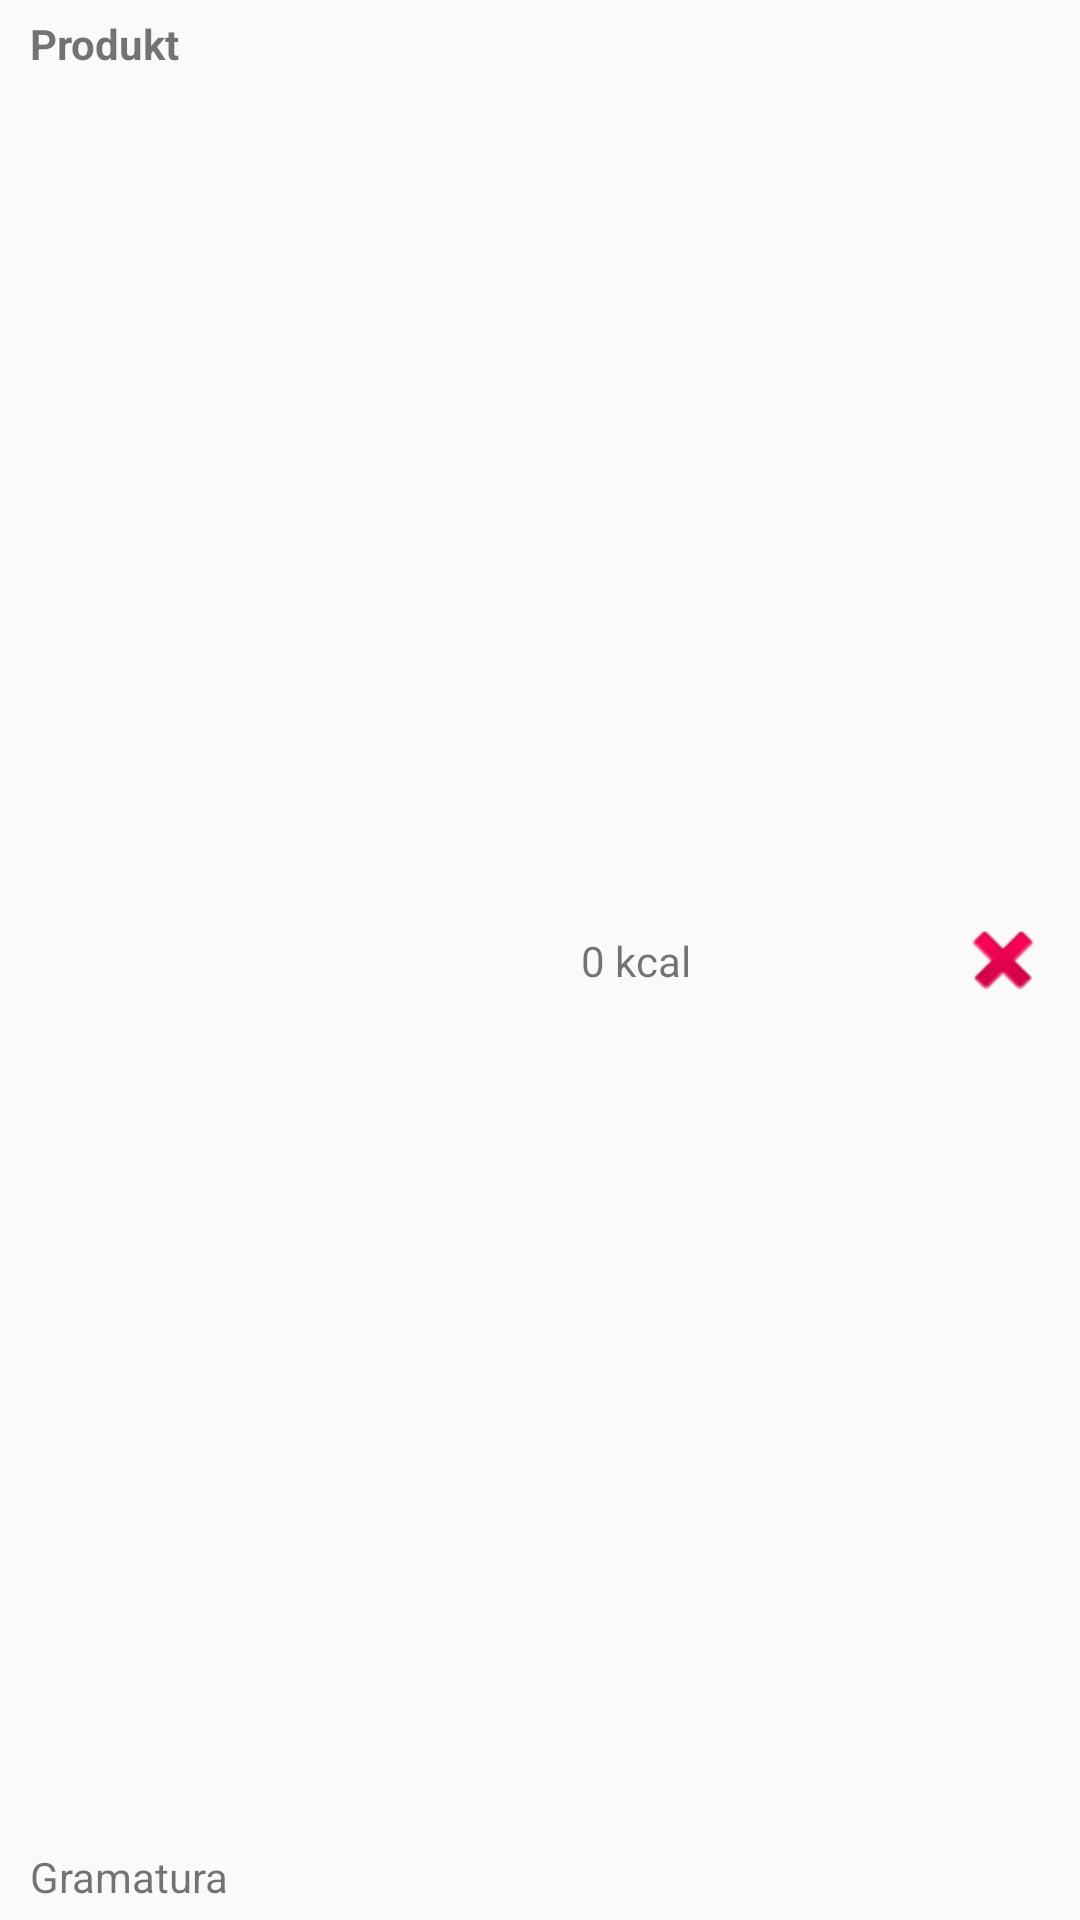

Where icons sit on this 1080 × 1920 app screen, as [left=x1, top=y1, right=x2, bottom=y2]:
delete: [left=972, top=931, right=1034, bottom=990]
